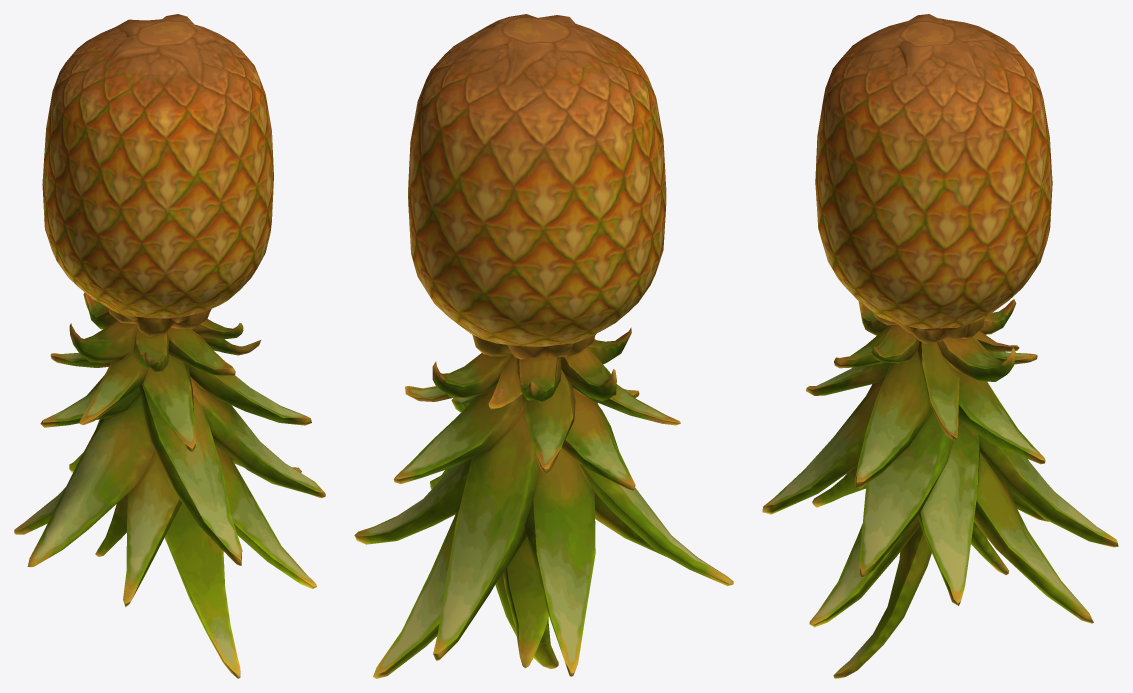
The model's file is SM_Pineapple.fbx.
3 renders of one model, left to right at view 1: azimuth 30°, elevation 25°; view 2: azimuth 150°, elevation 25°; view 3: azimuth 270°, elevation 25°, orthographic. The views are drawn at different scales.
Parts seen in each view (by area): view 1: SM_Pineapple; view 2: SM_Pineapple; view 3: SM_Pineapple.
Boxes of the visible parts, x1,y1,x2,y2 form: SM_Pineapple: (14,14,325,678); SM_Pineapple: (354,14,733,678); SM_Pineapple: (762,14,1118,678).
Size of the model in its own units: 28.97 by 55.58 by 28.34.
1 material, 1 textured.
